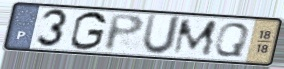3: (33, 8, 72, 50)
G: (68, 10, 109, 52)
M: (170, 18, 220, 57)
P: (103, 13, 146, 53)
Q: (212, 21, 252, 58)
U: (140, 13, 184, 57)
